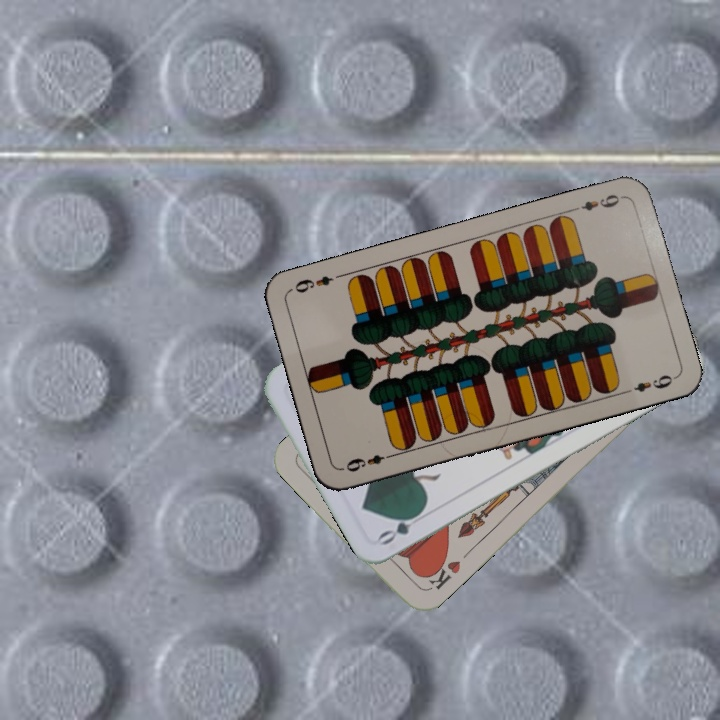E9: (341, 449, 397, 475), (567, 190, 626, 214)
GO: (374, 505, 430, 548)
HK: (419, 552, 463, 595)
